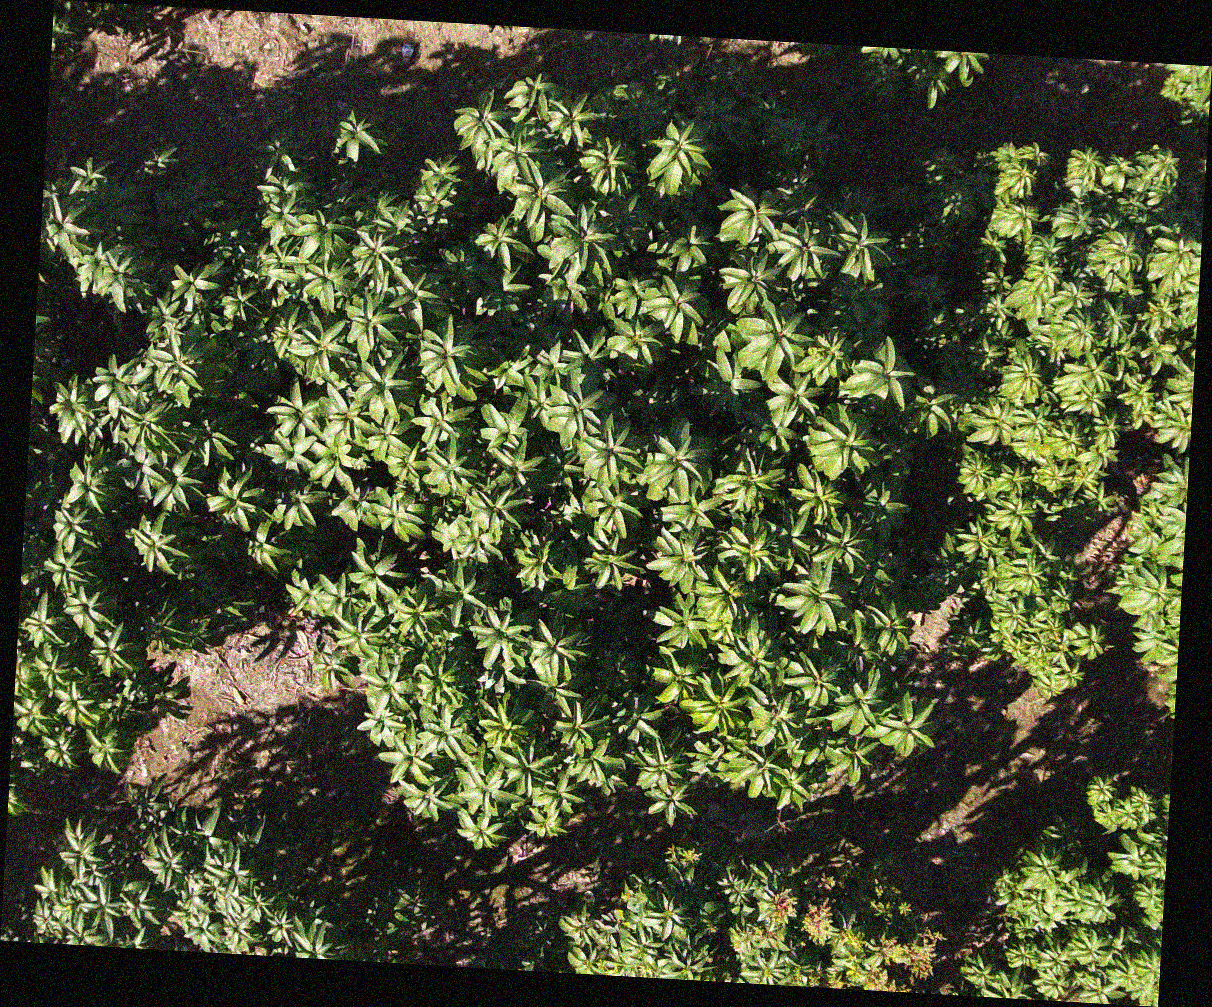flowers: (864, 914, 941, 983), (863, 962, 913, 992), (802, 899, 834, 944), (772, 889, 797, 923), (841, 927, 865, 950), (828, 972, 849, 989), (938, 984, 959, 995)
